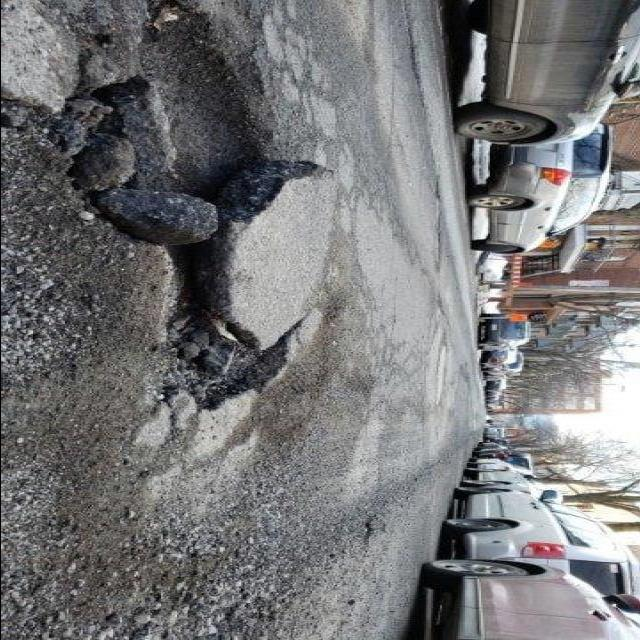jalan retak: (334, 438, 472, 560), (386, 2, 438, 114), (408, 172, 454, 286)
lubang: (42, 0, 338, 410), (0, 388, 369, 640)
